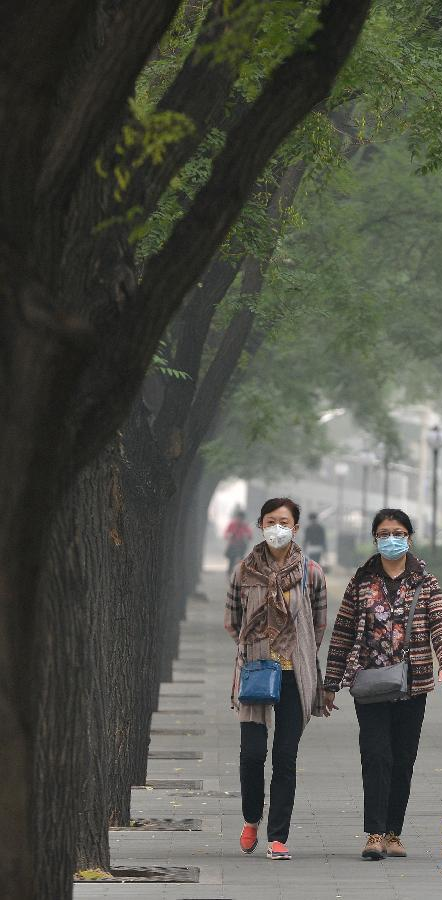person: (313, 504, 442, 860), (221, 496, 330, 859), (221, 510, 254, 584), (300, 510, 328, 587)
